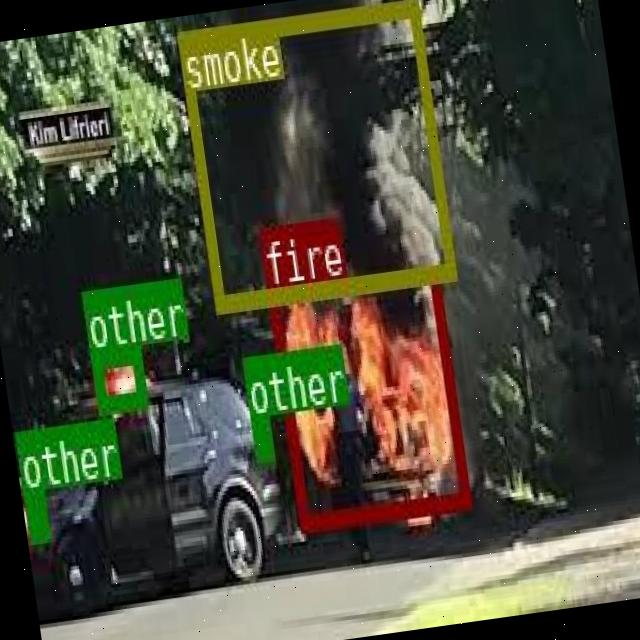fire: (265, 264, 470, 528)
smoke: (176, 0, 455, 309)
